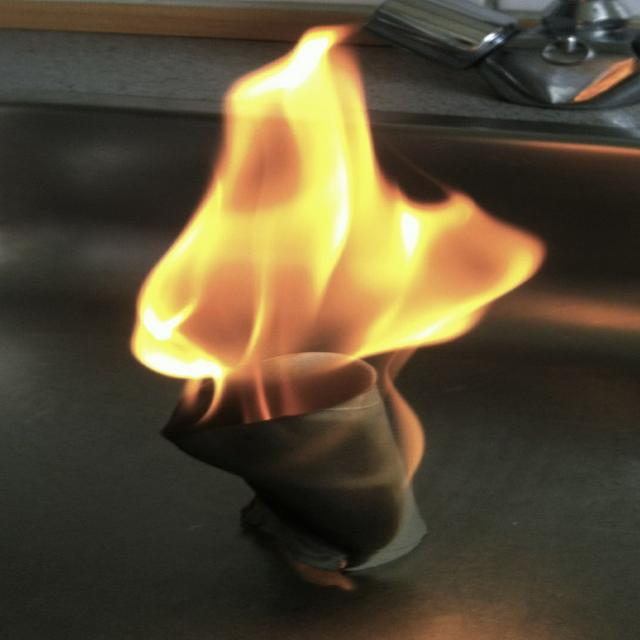fire: (129, 23, 548, 487)
